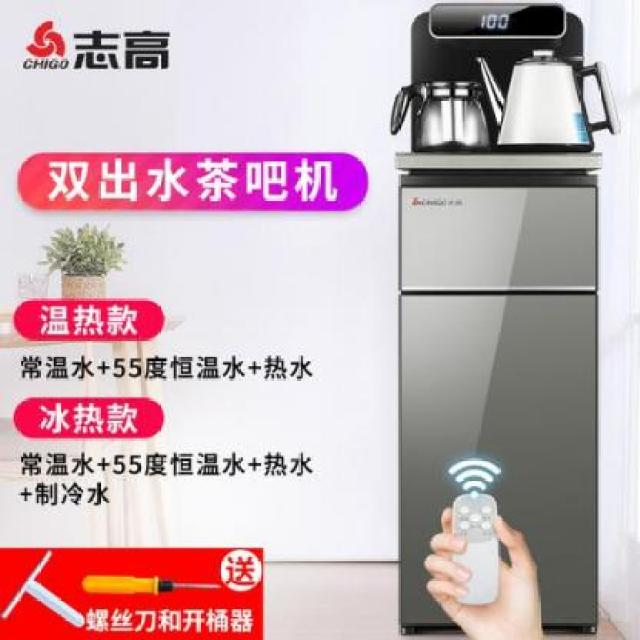cooler: (388, 0, 608, 638)
